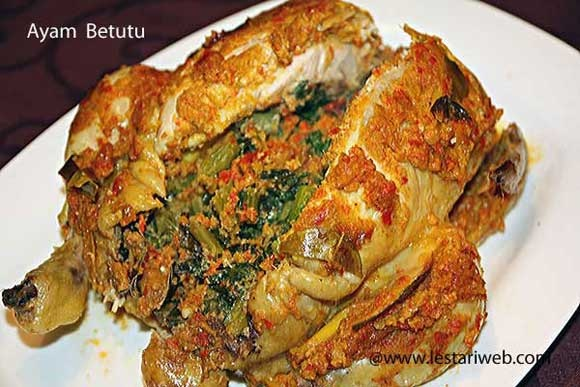ayam_betutu: (6, 42, 528, 349)
